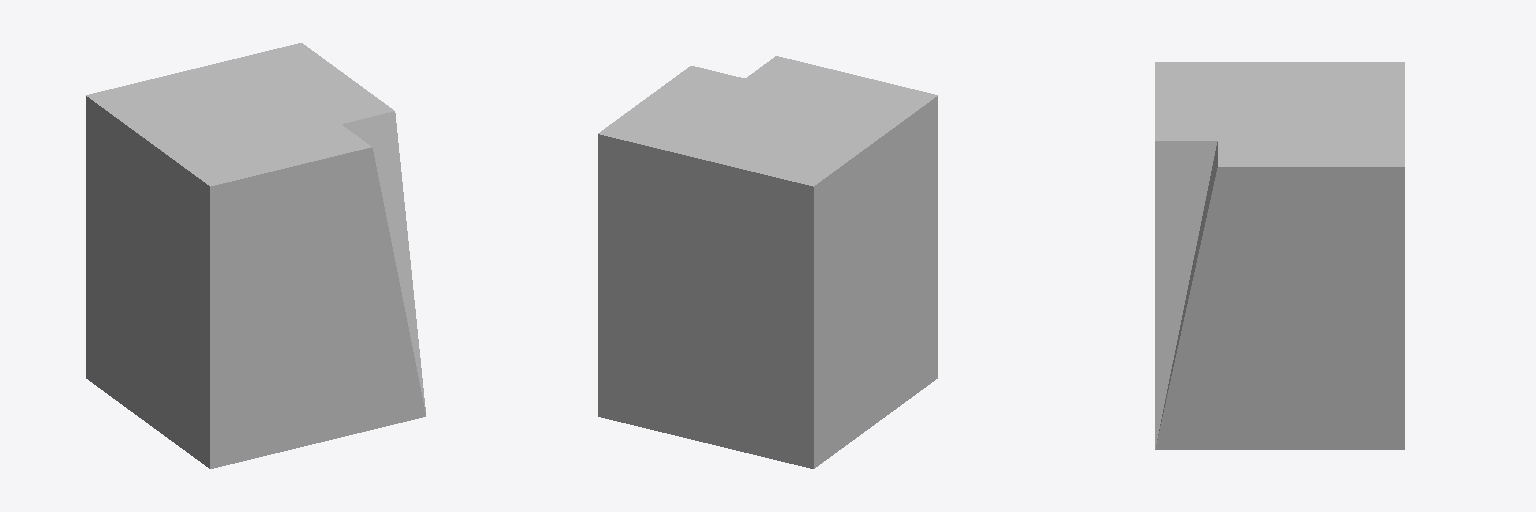
File: DungeonWall1.obj
The picture shows the model from 3 angles: view 1: azimuth 30°, elevation 25°; view 2: azimuth 150°, elevation 25°; view 3: azimuth 270°, elevation 25°; orthographic projection.
Visible parts, largest first — view 1: Cube.002_Cube.004; view 2: Cube.002_Cube.004; view 3: Cube.002_Cube.004.
Boxes of the visible parts, box(x1,y1,x2,y2) form: Cube.002_Cube.004: box(86, 43, 425, 468); Cube.002_Cube.004: box(598, 56, 937, 468); Cube.002_Cube.004: box(1155, 62, 1404, 449).
Size of the model in its own units: 8 by 10 by 8.